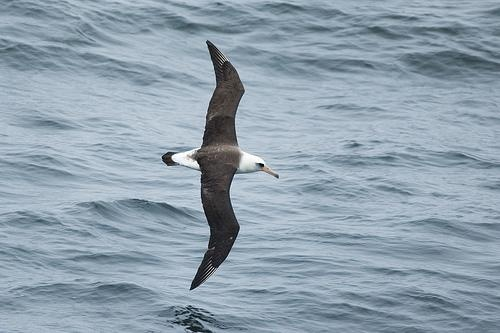bird: (161, 37, 281, 296)
